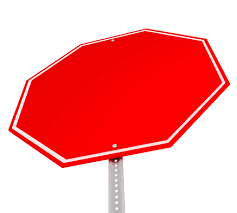SS: (13, 30, 225, 160)
